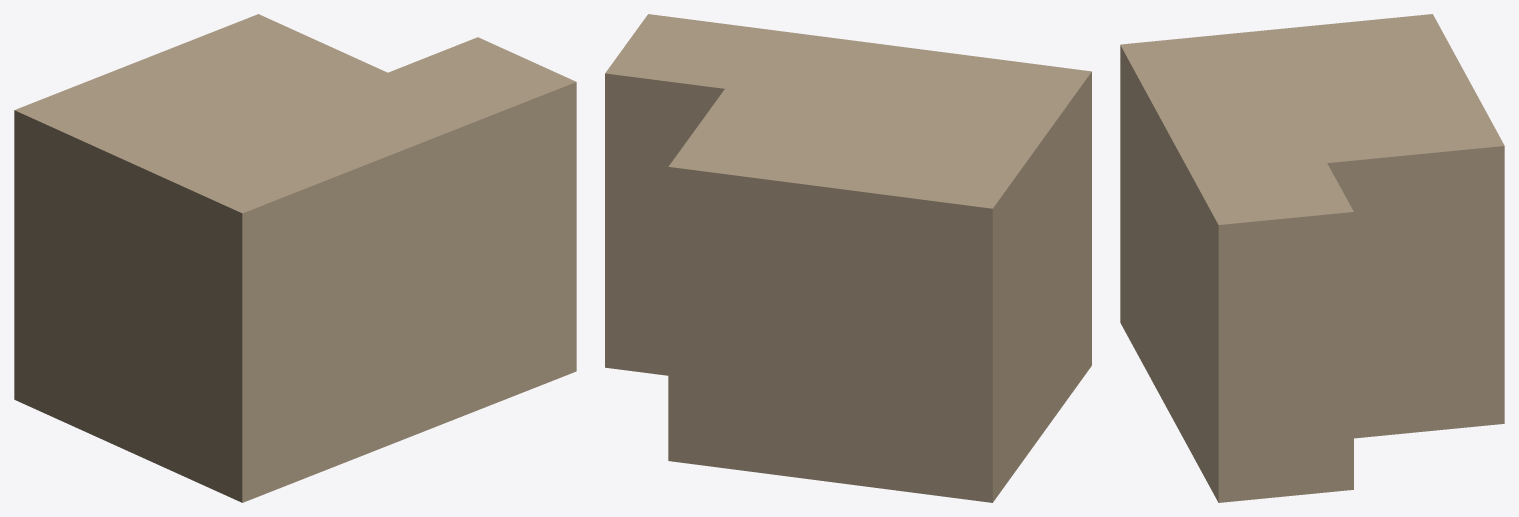
File: bld_106456108.dae
3 renders of one model, left to right at view 1: azimuth 30°, elevation 25°; view 2: azimuth 150°, elevation 25°; view 3: azimuth 270°, elevation 25°, orthographic. The views are drawn at different scales.
Parts seen in each view (by area): view 1: bld_106456108; view 2: bld_106456108; view 3: bld_106456108.
Boxes of the visible parts, bbox=[...] form: bld_106456108: bbox=[14, 14, 576, 502]; bld_106456108: bbox=[605, 14, 1091, 502]; bld_106456108: bbox=[1120, 14, 1504, 502].
Bounding box in the file's own units: 13.03 × 10.04 × 8.
